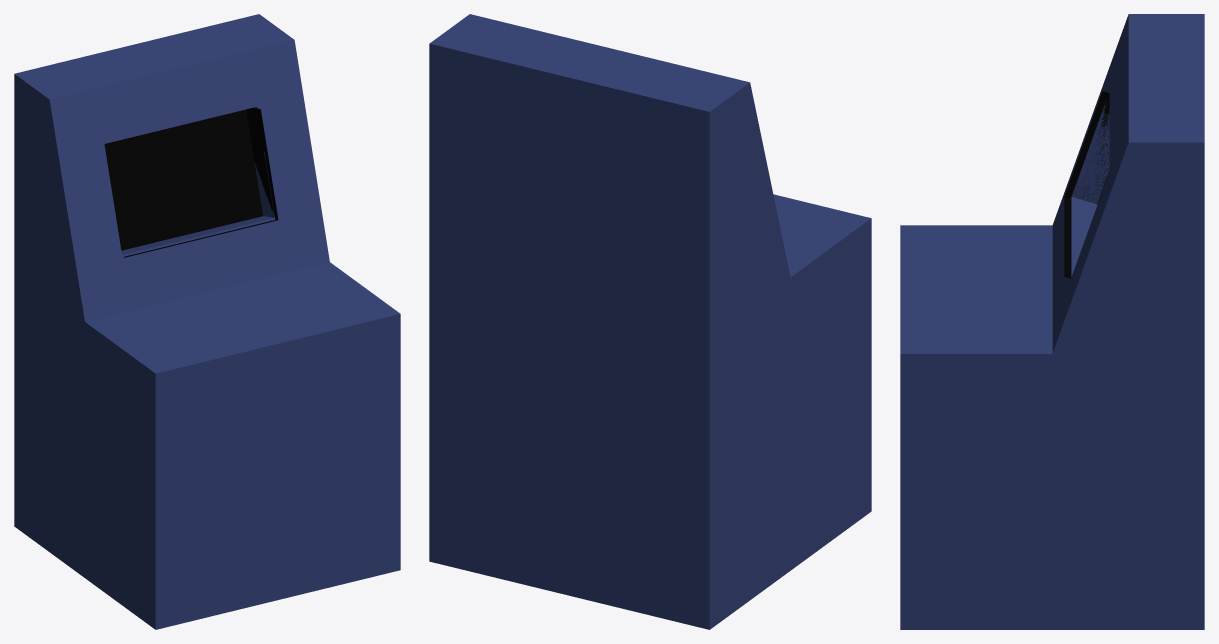
The model's file is MaschineUnity.fbx.
3 views of the same model, side by side, from view 1: azimuth 30°, elevation 25°; view 2: azimuth 150°, elevation 25°; view 3: azimuth 270°, elevation 25° (orthographic). The views are drawn at different scales.
Parts seen in each view (by area): view 1: Cube, Cube.001; view 2: Cube; view 3: Cube, Cube.001.
Part boxes in pixels (left/top/right/bottom): Cube: left=14, top=14, right=400, bottom=629; Cube.001: left=104, top=108, right=278, bottom=257; Cube: left=429, top=14, right=871, bottom=629; Cube: left=900, top=14, right=1204, bottom=629; Cube.001: left=1064, top=91, right=1109, bottom=278.
Size of the model in its own units: 200 by 353 by 200.
